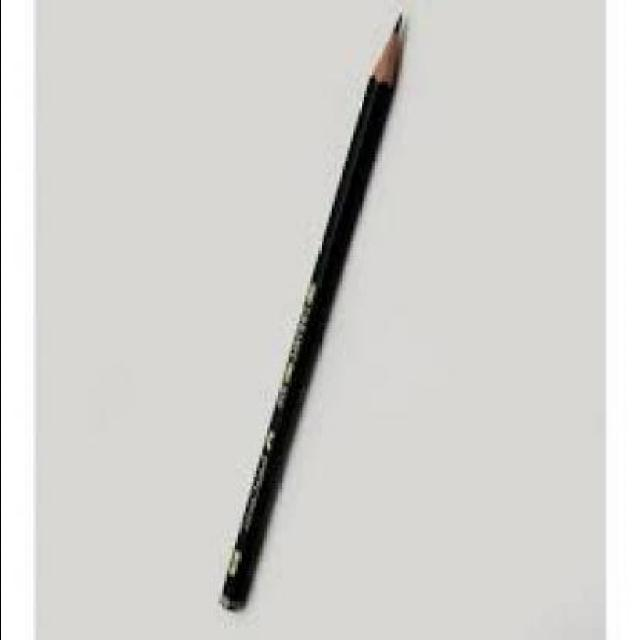Pencil: (358, 6, 408, 112)
